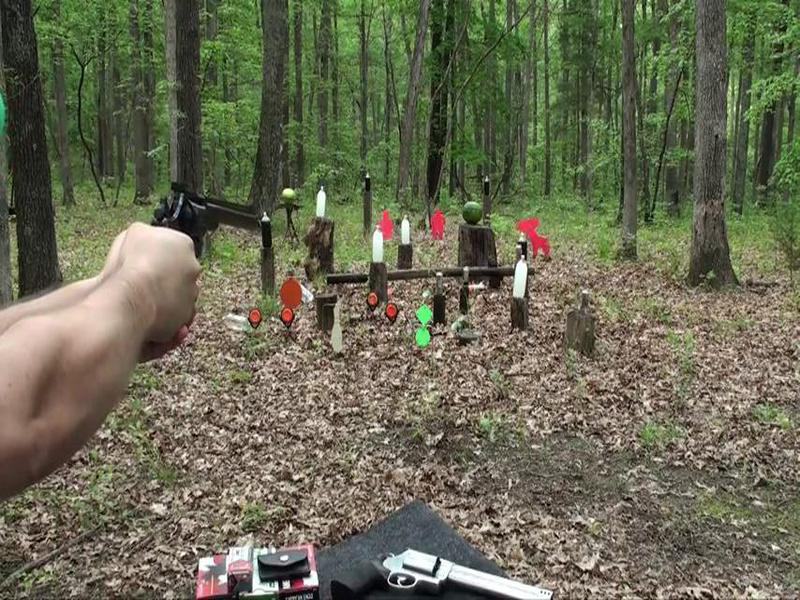Revolver: (121, 168, 273, 280)
